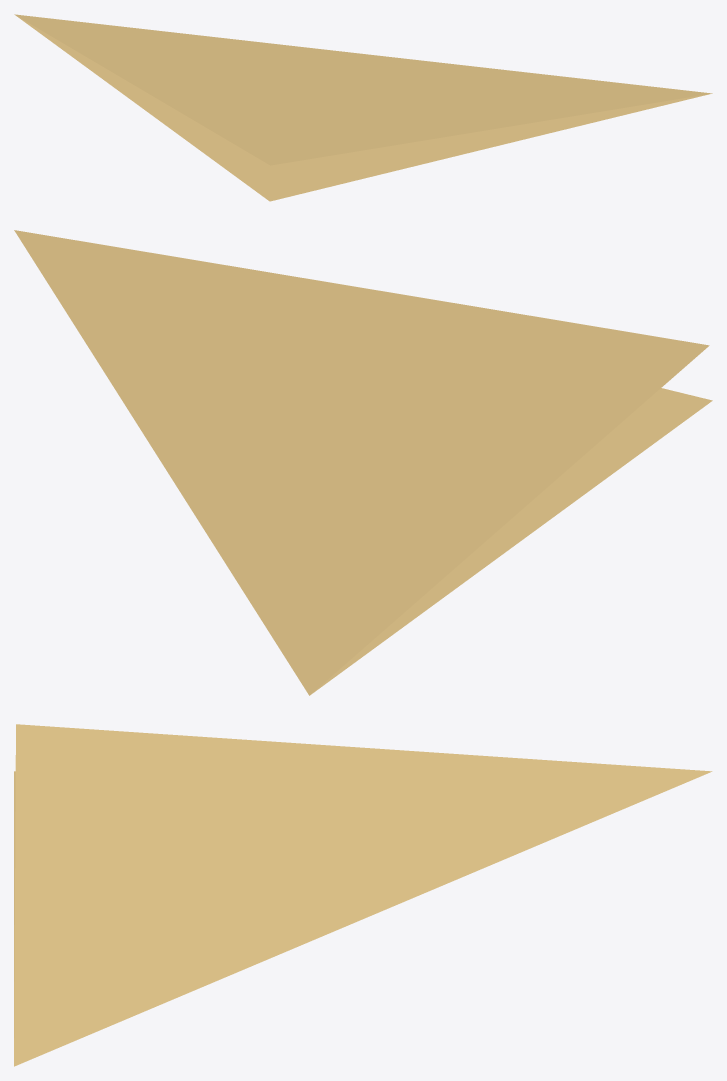
File: asset.glb
The picture shows the model from 3 angles, top to bottom: view 1: azimuth 30°, elevation 25°; view 2: azimuth 150°, elevation 25°; view 3: azimuth 270°, elevation 25°; orthographic projection. The views are drawn at different scales.
Visible parts, largest first — view 1: 平面; view 2: 平面; view 3: 平面.
Boxes of the visible parts, x1,y1,x2,y2 form: 平面: (14, 14, 712, 201); 平面: (14, 230, 712, 695); 平面: (14, 724, 712, 1066).
Bounding box in the file's own units: 2 × 0.1516 × 2.
